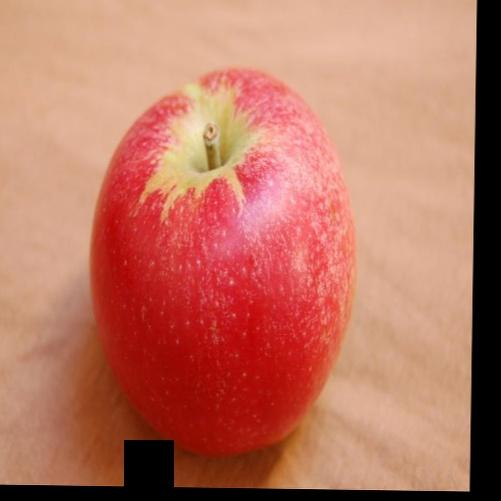red apple: (87, 59, 361, 459)
